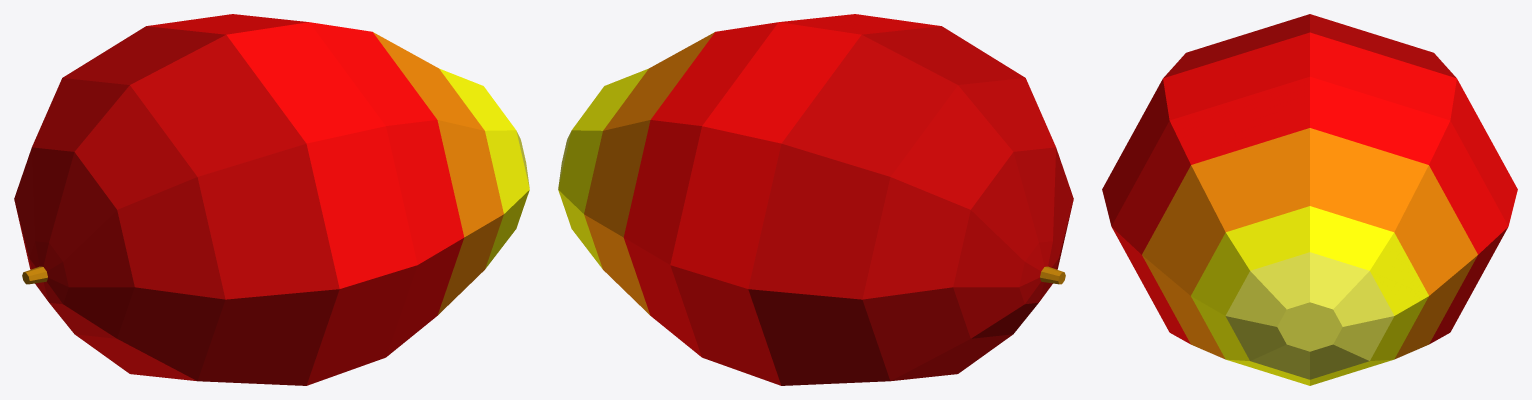
File: mango01.obj
3 views of the same model, side by side, from view 1: azimuth 30°, elevation 25°; view 2: azimuth 150°, elevation 25°; view 3: azimuth 270°, elevation 25° (orthographic). The views are drawn at different scales.
Visible parts, largest first — view 1: Cylinder; view 2: Cylinder; view 3: Cylinder.
Boxes of the visible parts, x1,y1,x2,y2 form: Cylinder: [14, 14, 529, 385]; Cylinder: [558, 14, 1073, 385]; Cylinder: [1102, 14, 1517, 385].
Size of the model in its own units: 0.1172 by 0.0796 by 0.0955.
Materials: 1 (1 with a texture image).
